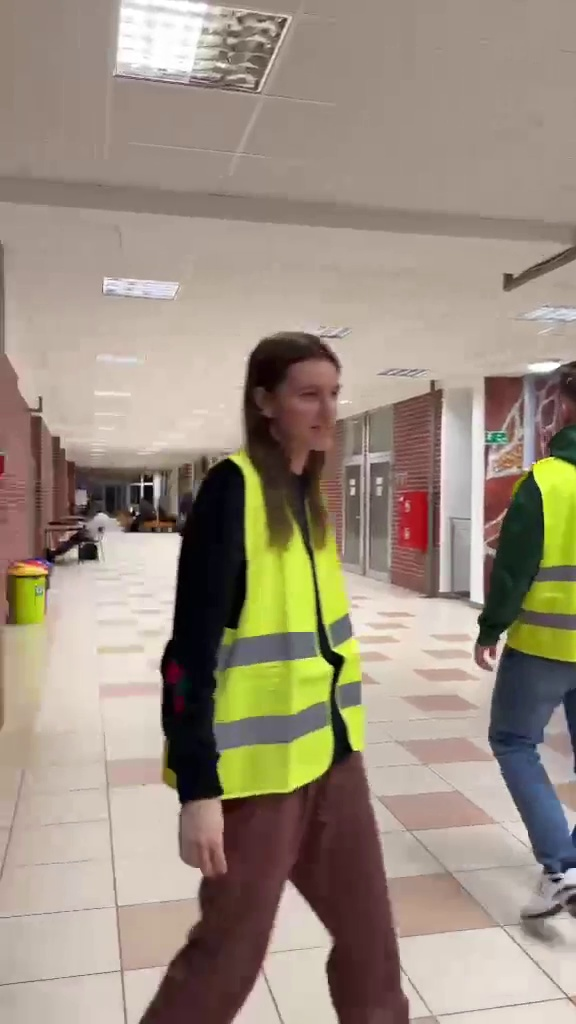vest: (168, 328, 408, 1023), (484, 360, 576, 928)
